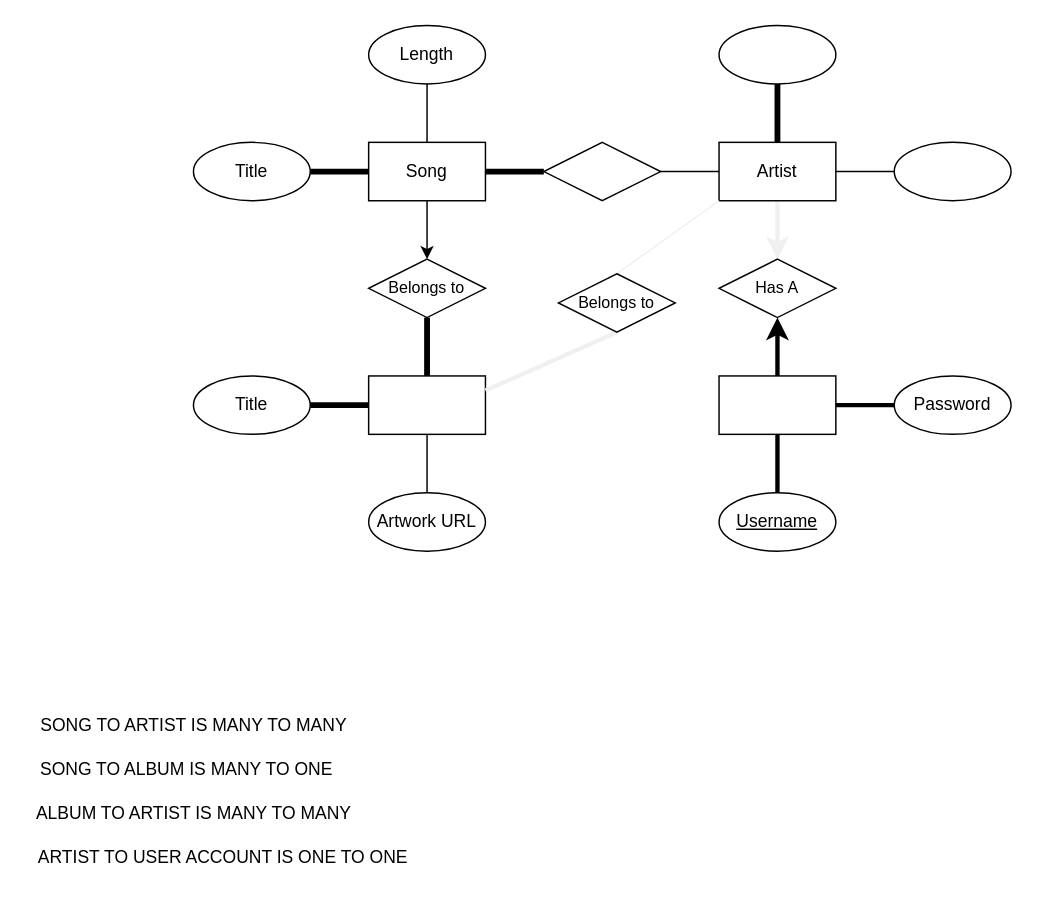
Some shapes in this 1037 by 898 pixel diagram are drawn without their labels. The shapes that lost their labels are listed below. From the top down, each one's centre as x and y in pixels, then its label:
the point at 777,54: Name
the point at 601,171: Written By
the point at 952,171: Bio
the point at 426,404: Album
the point at 777,404: User Account
